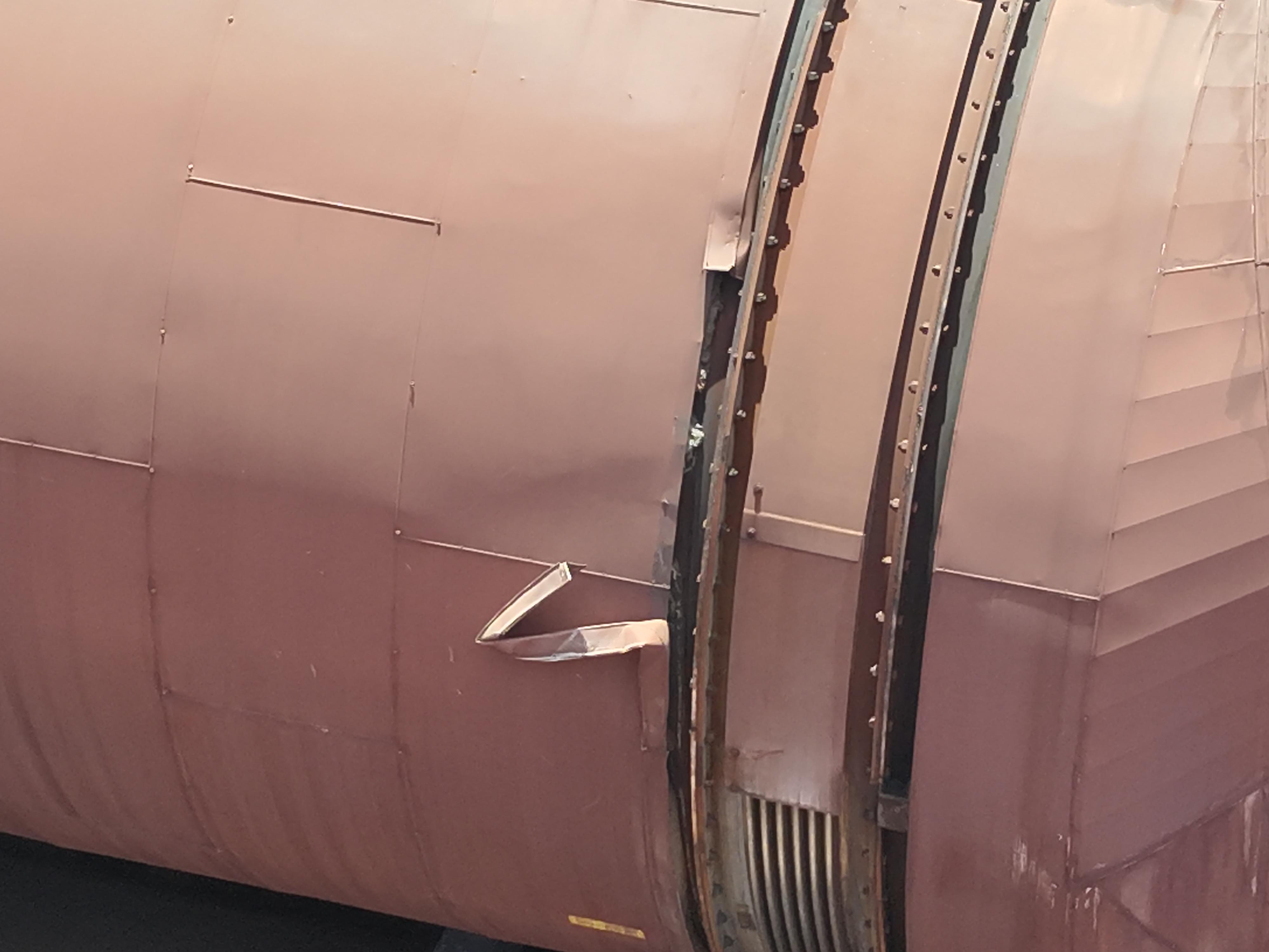Failures: (462, 119, 847, 906)
